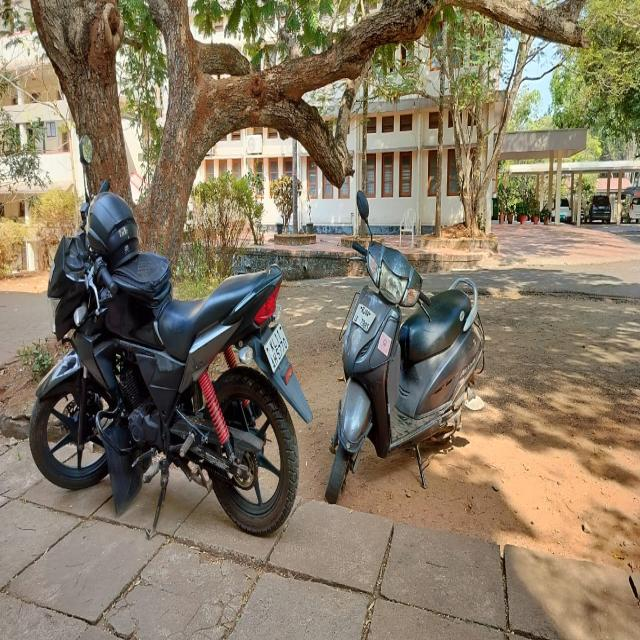motorcycle ahead at: (27, 132, 314, 546), (327, 189, 488, 495)
